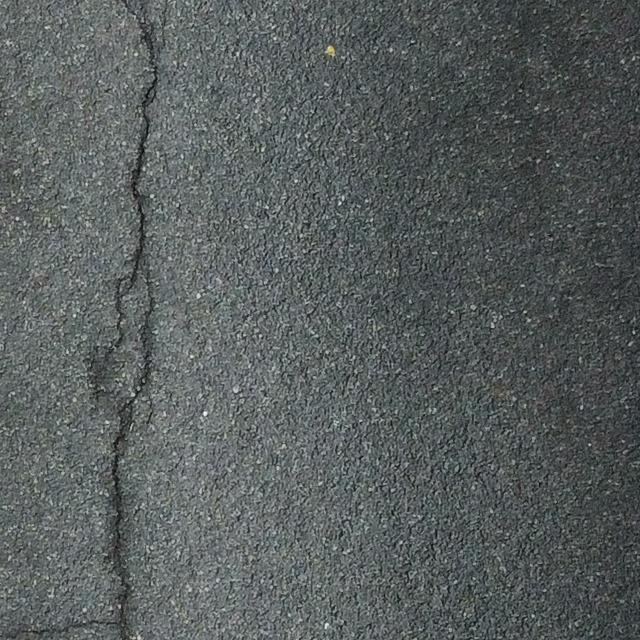LongitudinalCrack: (91, 1, 168, 631)
